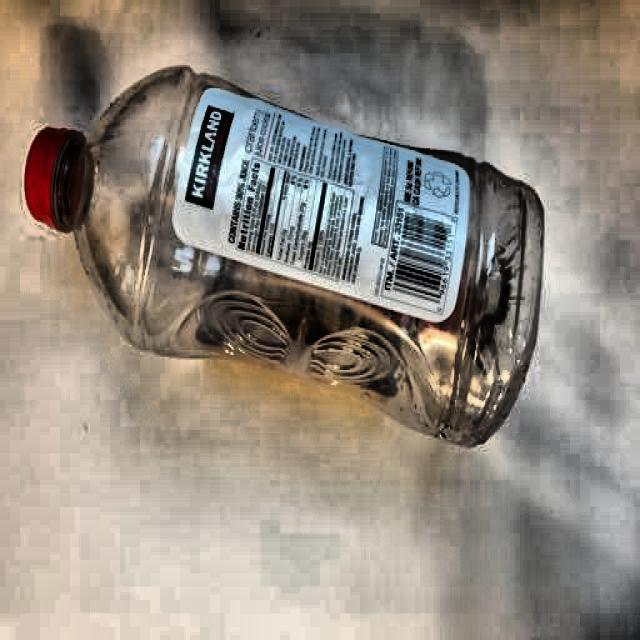plastic: (23, 64, 547, 456)
